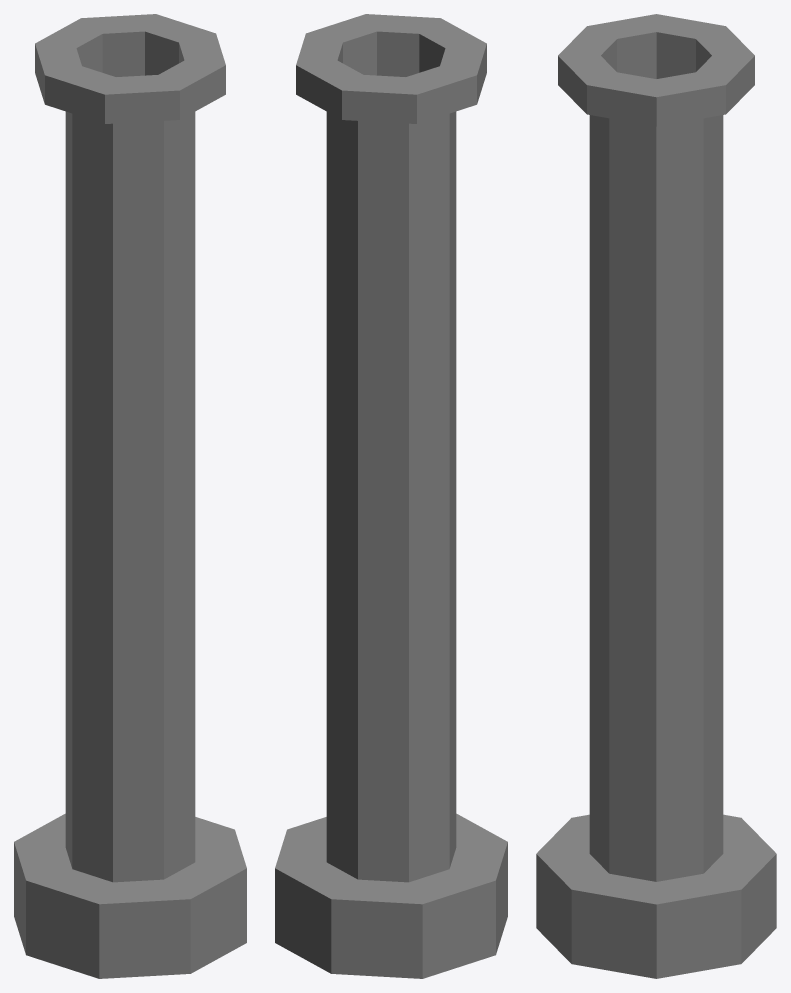
Rendered from Prop_Chimney_01.fbx.
3 renders of one model, left to right at view 1: azimuth 30°, elevation 25°; view 2: azimuth 150°, elevation 25°; view 3: azimuth 270°, elevation 25°, orthographic.
Visible parts, largest first — view 1: Prop_Chimney_01; view 2: Prop_Chimney_01; view 3: Prop_Chimney_01.
Boxes of the visible parts, x1,y1,x2,y2 form: Prop_Chimney_01: [14, 14, 246, 978]; Prop_Chimney_01: [275, 14, 507, 978]; Prop_Chimney_01: [536, 14, 776, 978].
Size of the model in its own units: 33.23 by 133 by 33.23.
